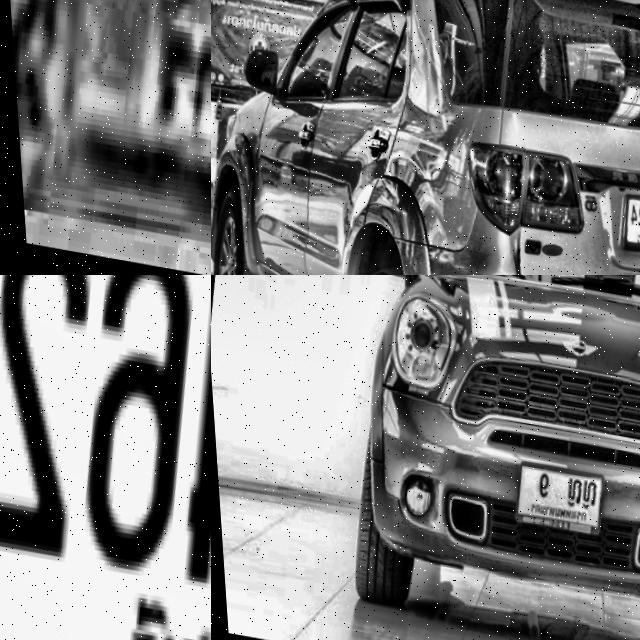license-plate: (0, 275, 211, 640), (0, 0, 211, 275), (496, 448, 606, 551), (611, 181, 640, 256)
